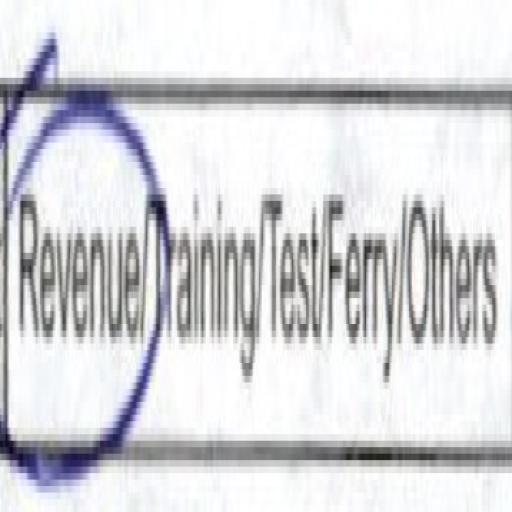check: (0, 20, 148, 504)
